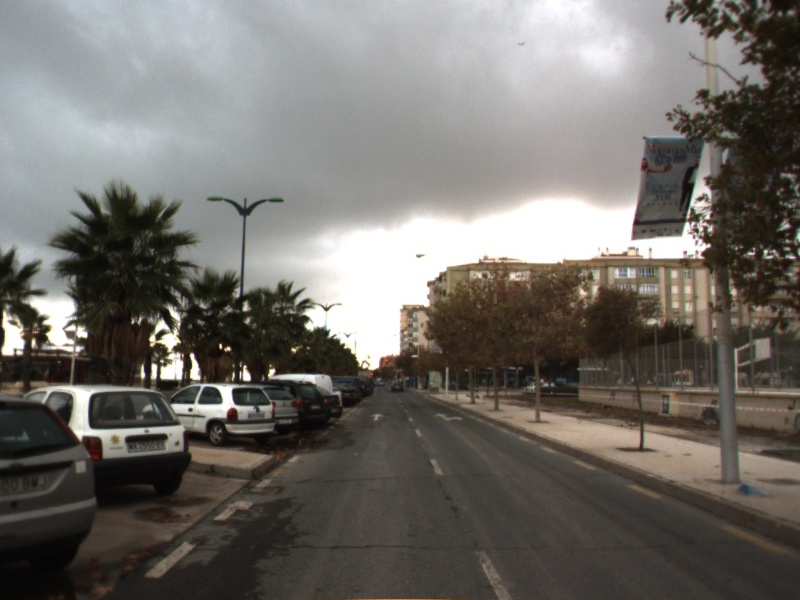STRAIGHT: (368, 412, 387, 422)
STRAIGHT_RIGHT: (433, 411, 465, 423)
